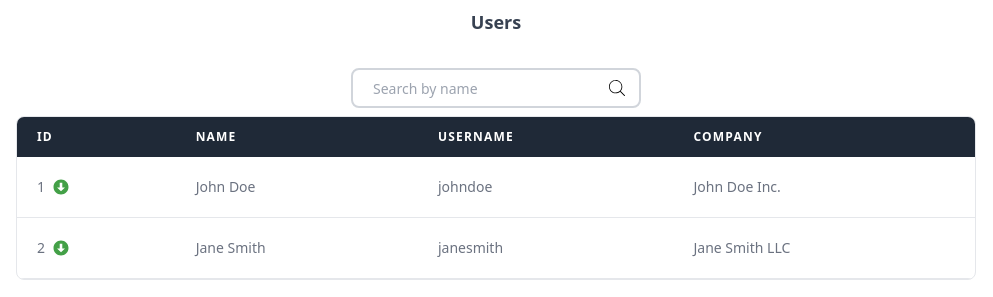
UserList › filters and displays users based on search input
This screenshot has width=993, height=297.
Expected: the text "John Doe" is shown, [196, 177, 256, 197]
Expected: the text "Jane Smith" is shown, [196, 238, 266, 258]
# Simulate search input
Type "Jane" into the field at (496, 88), box [351, 68, 641, 108]
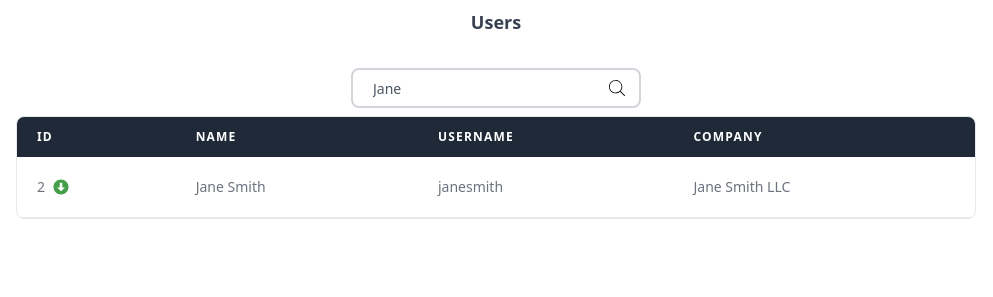
Expected: the text "John Doe" is gone
Expected: the text "Jane Smith" is shown, [196, 177, 266, 197]
